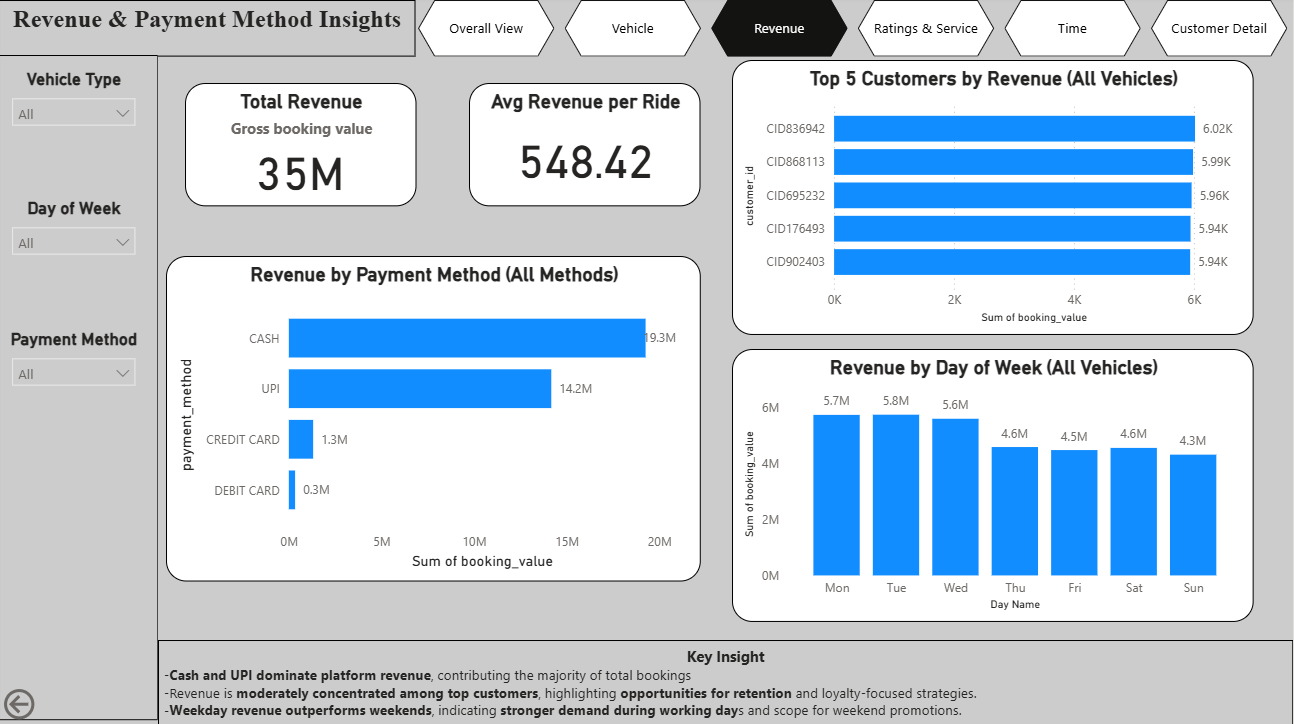

The page's visual inventory and layout, read from the dashboard file:
{"tool":"powerbi","page":{"name":"Revenue ","canvas":[1280,720],"ordinal":2},"visuals":[{"type":"textbox","box":[0,2.5,411.9,56.1],"z":0},{"type":"textbox","box":[157,635.7,1123,84.5],"z":1000},{"type":"card","title":"Total Revenue","fields":{"Values":["Sum(ola_rides_cleaned.booking_value)"]},"box":[183.7,85.4,228.6,122.5],"z":2000},{"type":"card","title":"Avg Revenue per Ride","fields":{"Values":["Avg(ola_rides_cleaned.booking_value)"]},"box":[464.9,85.4,229.4,122.5],"z":3000},{"type":"clusteredBarChart","fields":{"Category":["ola_rides_cleaned.payment_method"],"Y":["Sum(ola_rides_cleaned.booking_value)"]},"box":[165.6,256.2,528.7,321.7],"z":4000},{"type":"clusteredBarChart","fields":{"Category":["ola_rides_cleaned.customer_id"],"Y":["Sum(ola_rides_cleaned.booking_value)"]},"box":[725.4,62.1,515.8,271.7],"z":5000},{"type":"clusteredColumnChart","fields":{"Category":["ola_rides_cleaned.Day Name"],"Y":["Sum(ola_rides_cleaned.booking_value)"]},"box":[725.4,348.5,515.8,270],"z":6000},{"type":"shape","box":[0,57.4,157.3,661.8],"z":7000},{"type":"slicer","title":"Vehicle Type","fields":{"Values":["ola_rides_cleaned.vehicle_type"]},"box":[3.5,71.6,142.3,85.4],"z":8000},{"type":"slicer","title":"Day of Week","fields":{"Values":["ola_rides_cleaned.ride_day"]},"box":[3.5,198.4,142.3,84.5],"z":9000},{"type":"pageNavigator","box":[414.4,2.5,860.7,56.1],"z":10000},{"type":"slicer","title":"Payment Method","fields":{"Values":["ola_rides_cleaned.payment_method"]},"box":[3.5,328.6,142.3,84.5],"z":11000},{"type":"actionButton","box":[0,680,100.4,40],"z":11001}]}

Visuals, with their boxes in screenshot pixels (x1, y1, x2, y2), scaled from the page's 1280x720 canvas onto the 1294x724 screenshot:
textbox: x1=0 y1=3 x2=416 y2=59
textbox: x1=159 y1=639 x2=1293 y2=723
"Total Revenue" card: x1=186 y1=86 x2=417 y2=209
"Avg Revenue per Ride" card: x1=470 y1=86 x2=702 y2=209
clusteredBarChart - ola_rides_cleaned.payment_method x Sum(ola_rides_cleaned.booking_value): x1=167 y1=258 x2=702 y2=581
clusteredBarChart - ola_rides_cleaned.customer_id x Sum(ola_rides_cleaned.booking_value): x1=733 y1=62 x2=1255 y2=336
clusteredColumnChart - ola_rides_cleaned.Day Name x Sum(ola_rides_cleaned.booking_value): x1=733 y1=350 x2=1255 y2=622
shape: x1=0 y1=58 x2=159 y2=723
"Vehicle Type" slicer: x1=4 y1=72 x2=147 y2=158
"Day of Week" slicer: x1=4 y1=200 x2=147 y2=284
pageNavigator: x1=419 y1=3 x2=1289 y2=59
"Payment Method" slicer: x1=4 y1=330 x2=147 y2=415
actionButton: x1=0 y1=684 x2=101 y2=723
